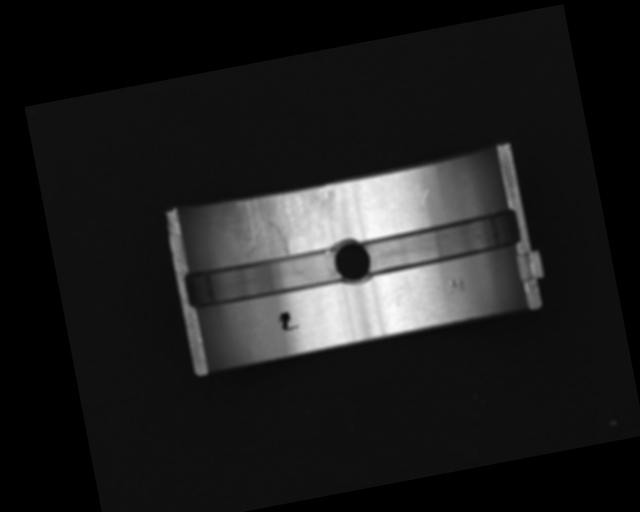blot: (276, 309, 299, 332)
bruise: (449, 277, 467, 294)
gap: (185, 244, 346, 310), (361, 210, 522, 275)
hole: (328, 234, 372, 287)
nick: (409, 187, 434, 229)
scratch: (230, 184, 342, 263)
